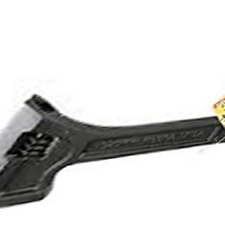wrench: (3, 80, 225, 207)
